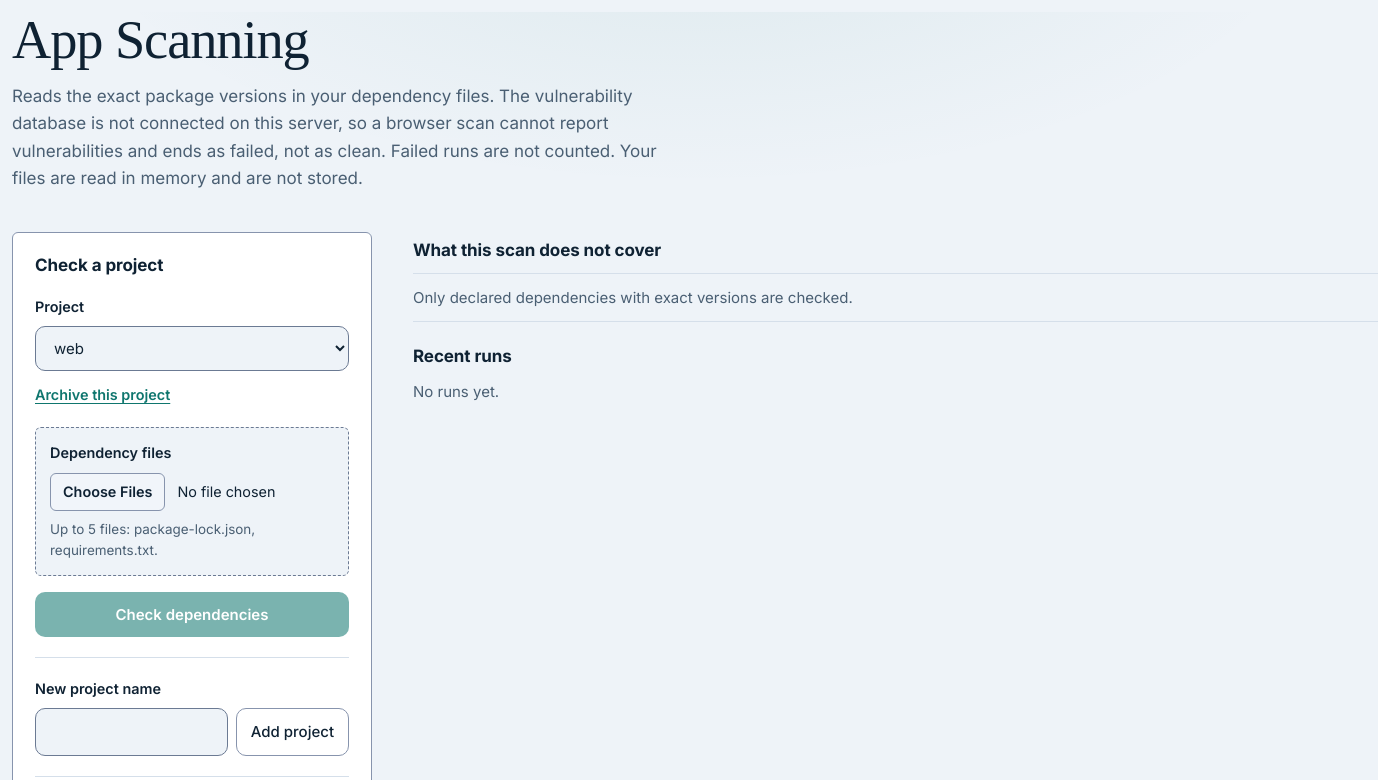
Test: App Scanning page › archives the selected project after confirmation, freeing its place
Click the button "Archive this project" at [103, 396], box left=35, top=380, right=170, bottom=412
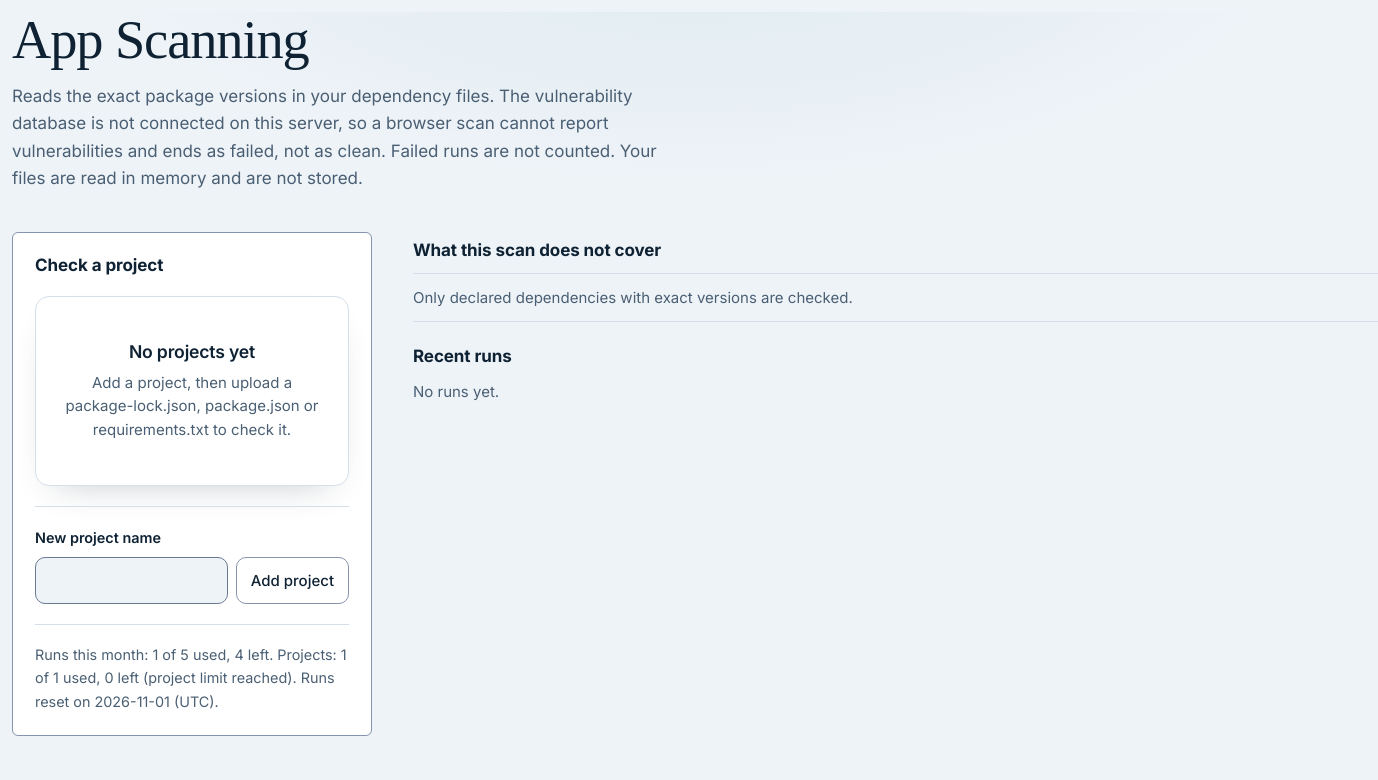
expect the heading "No projects yet" is shown: met, box left=129, top=341, right=255, bottom=363
